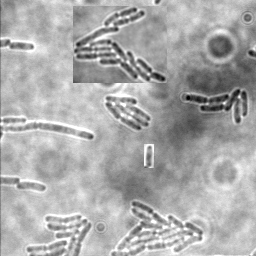Dividing: (1, 123, 95, 142), (8, 41, 35, 52), (144, 144, 154, 168)
Microcolony: (73, 6, 167, 83), (109, 200, 205, 255), (25, 212, 94, 255), (184, 89, 248, 126), (103, 96, 150, 132), (16, 182, 48, 193)
